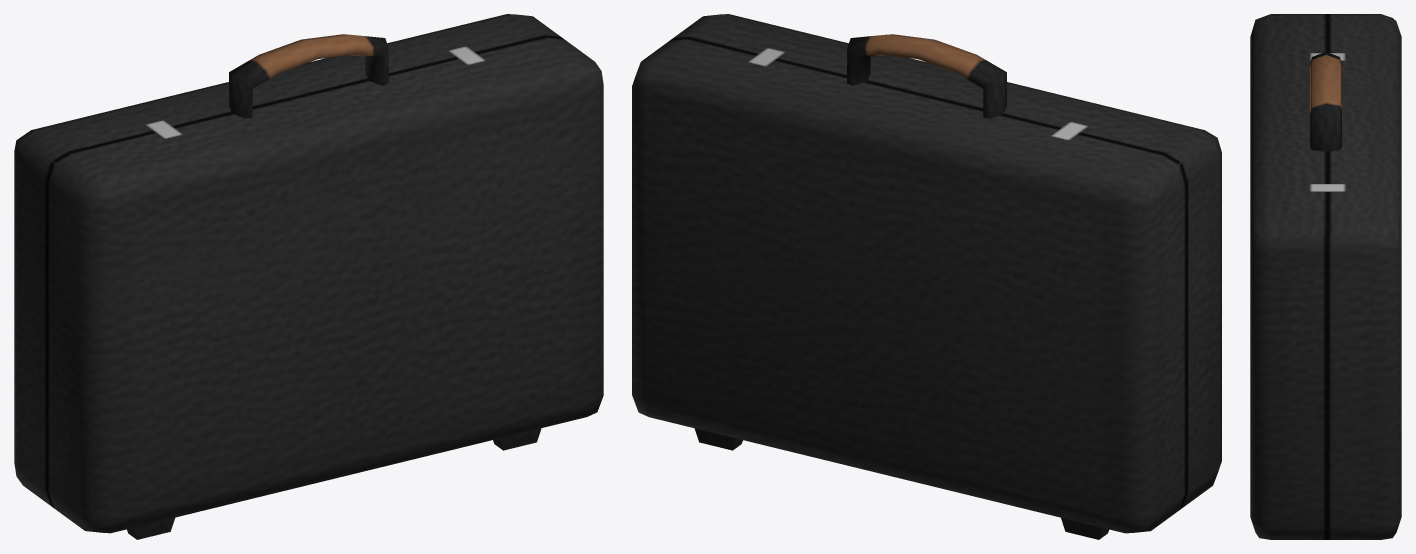
Rendered from TNP0110024.FBX.
3 renders of one model, left to right at view 1: azimuth 30°, elevation 25°; view 2: azimuth 150°, elevation 25°; view 3: azimuth 270°, elevation 25°, orthographic. The views are drawn at different scales.
Visible parts, largest first — view 1: smTNP0110024; view 2: smTNP0110024; view 3: smTNP0110024.
Part boxes in pixels (x1,y1,x2,y2): smTNP0110024: [14, 14, 603, 539]; smTNP0110024: [632, 14, 1221, 539]; smTNP0110024: [1250, 14, 1401, 539].
Bounding box in the file's own units: 0.485 × 0.3792 × 0.1377.
1 material, 1 textured.
